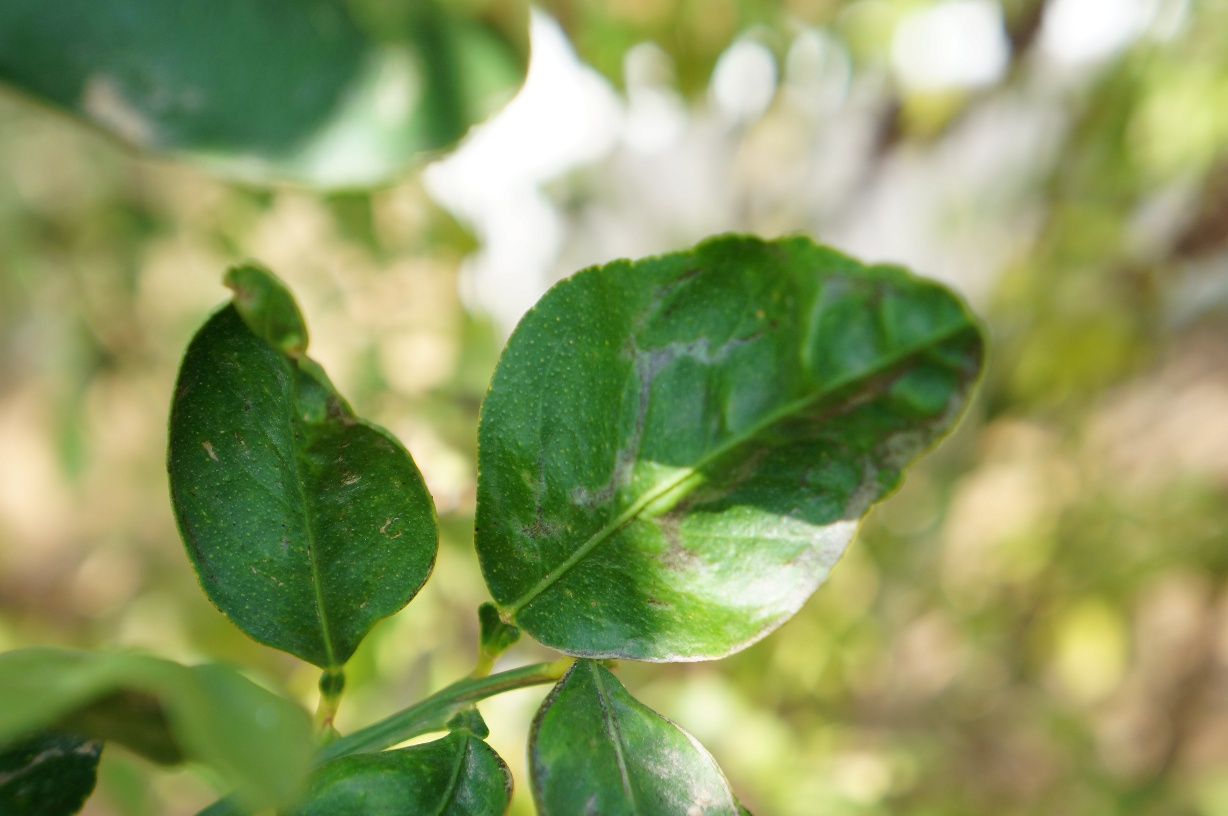damage: (566, 273, 805, 549)
